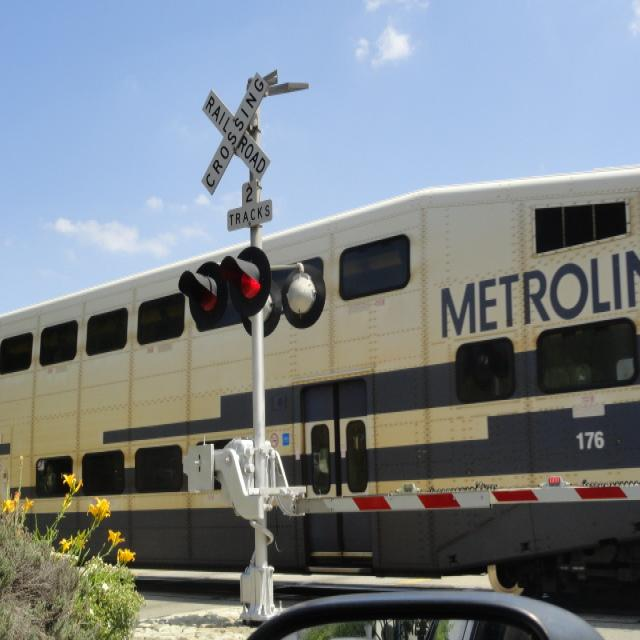Vehicle: (255, 587, 598, 632)
